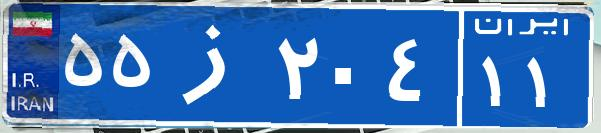0: (330, 28, 385, 110)
1: (475, 38, 525, 113), (525, 38, 570, 115)
2: (273, 28, 330, 110)
4: (385, 28, 445, 110)
5: (57, 26, 110, 107), (110, 28, 158, 105)
ز: (158, 15, 273, 115)
